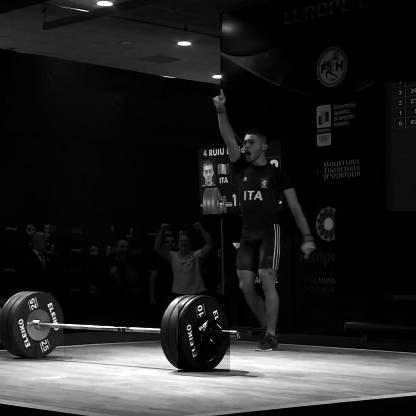barbell: (180, 295, 231, 373), (13, 291, 65, 359)
